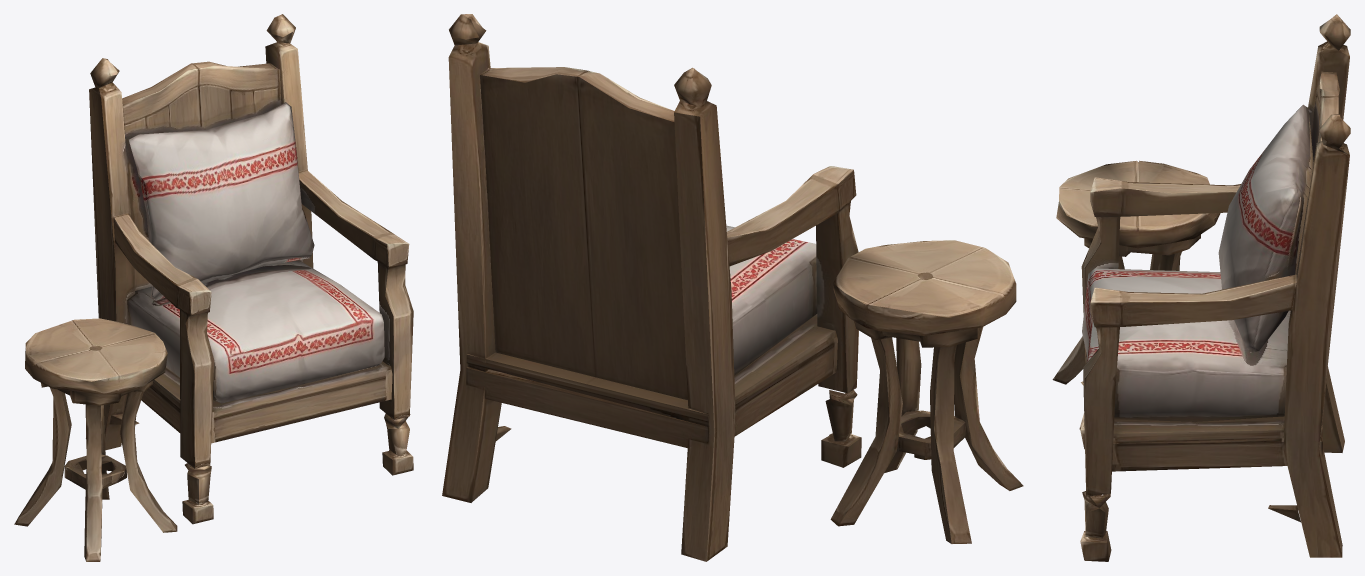
Rendered from act1_extras_v1_window_chair.glb.
The picture shows the model from 3 angles, left to right: view 1: azimuth 30°, elevation 25°; view 2: azimuth 150°, elevation 25°; view 3: azimuth 270°, elevation 25°; orthographic projection. The views are drawn at different scales.
Visible parts, largest first — view 1: A19_3_window_chair; view 2: A19_3_window_chair; view 3: A19_3_window_chair.
Part boxes in pixels (x1,y1,x2,y2): A19_3_window_chair: (14, 14, 413, 561); A19_3_window_chair: (442, 14, 1023, 561); A19_3_window_chair: (1052, 14, 1350, 561).
Bounding box in the file's own units: 0.9771 × 0.9995 × 0.6167.
1 material, 1 textured.
